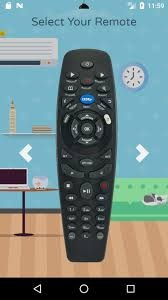remote control: (55, 49, 117, 266)
